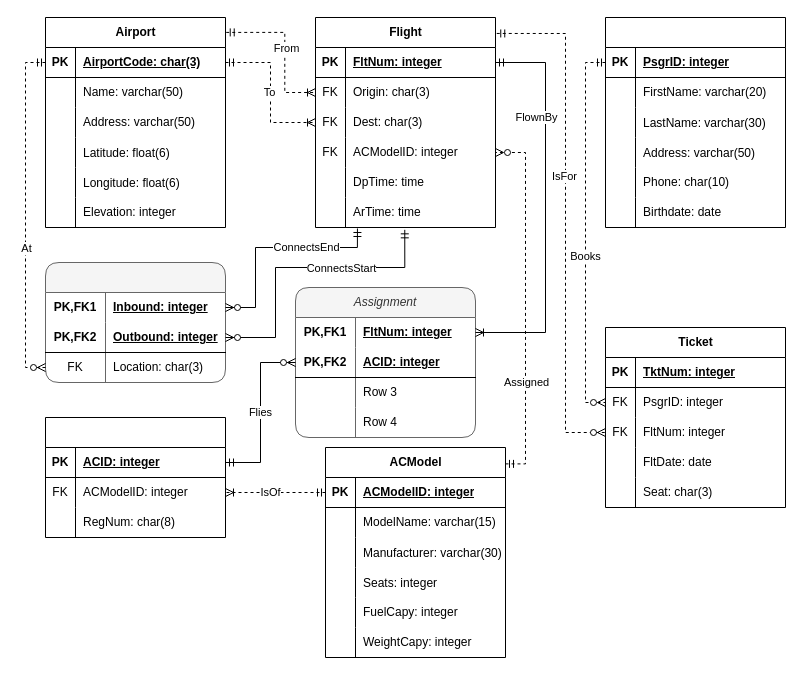
The diagram is 803 pixels wide and 675 high, and some of its shapes have lost their labels. Here are the shapes that lost their labels. From the top down, the box of each, then its label:
(604, 16, 786, 228): Passenger
(44, 262, 226, 382): Connection
(44, 416, 226, 538): Aircraft
